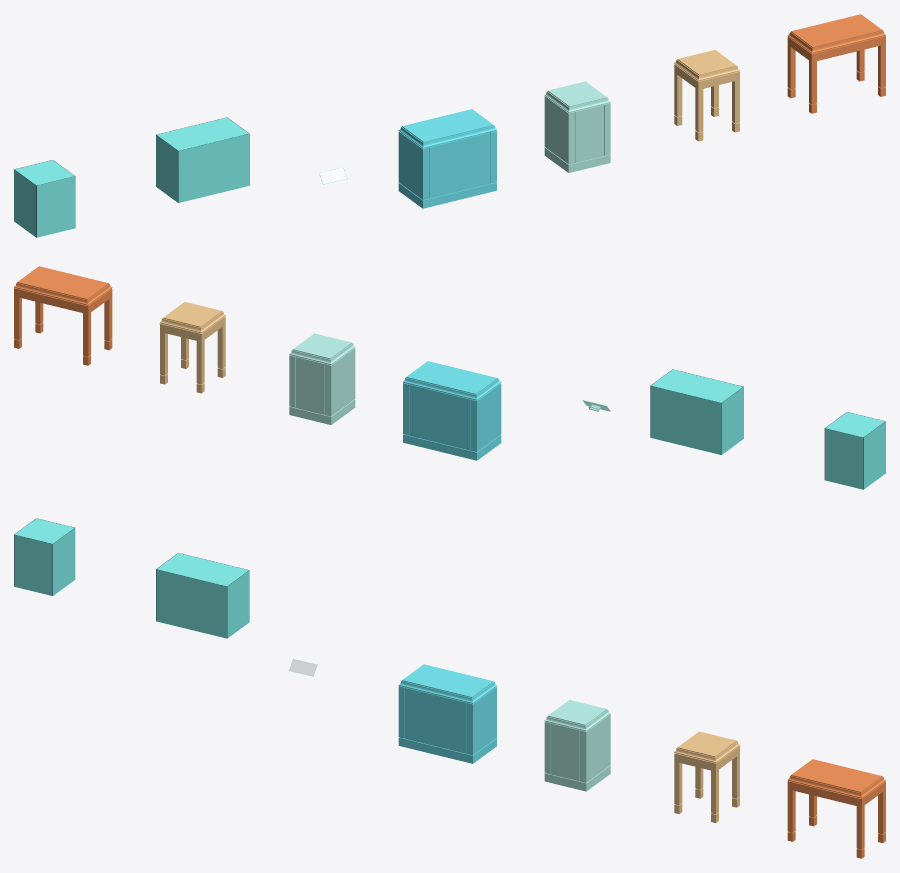
File: Display cases.fbx
3 renders of one model, top to bottom at view 1: azimuth 30°, elevation 25°; view 2: azimuth 150°, elevation 25°; view 3: azimuth 330°, elevation 25°, orthographic.
Visible parts, largest first — view 1: Display_A2, Glass_2, Display_A1, Display_B2, Glass_1, Display_B1; view 2: Display_A2, Glass_2, Display_A1, Display_B2, Glass_1, Display_B1; view 3: Display_A2, Glass_2, Display_A1, Display_B2, Glass_1, Display_B1.
Part boxes in pixels (x1,y1,x2,y2): Display_A2: (398, 109, 496, 208); Glass_2: (156, 117, 249, 202); Display_A1: (544, 81, 610, 172); Display_B2: (787, 14, 885, 113); Glass_1: (14, 160, 75, 237); Display_B1: (674, 50, 740, 141); Display_A2: (403, 361, 501, 460); Glass_2: (650, 369, 743, 454); Display_A1: (289, 333, 355, 424); Display_B2: (14, 266, 112, 365); Glass_1: (824, 412, 885, 489); Display_B1: (159, 302, 225, 393); Display_A2: (398, 664, 496, 763); Glass_2: (156, 553, 249, 638); Display_A1: (544, 700, 610, 791); Display_B2: (787, 759, 885, 858); Glass_1: (14, 518, 75, 595); Display_B1: (674, 731, 740, 822).
Size of the model in its own units: 1309 by 172 by 78.24.
